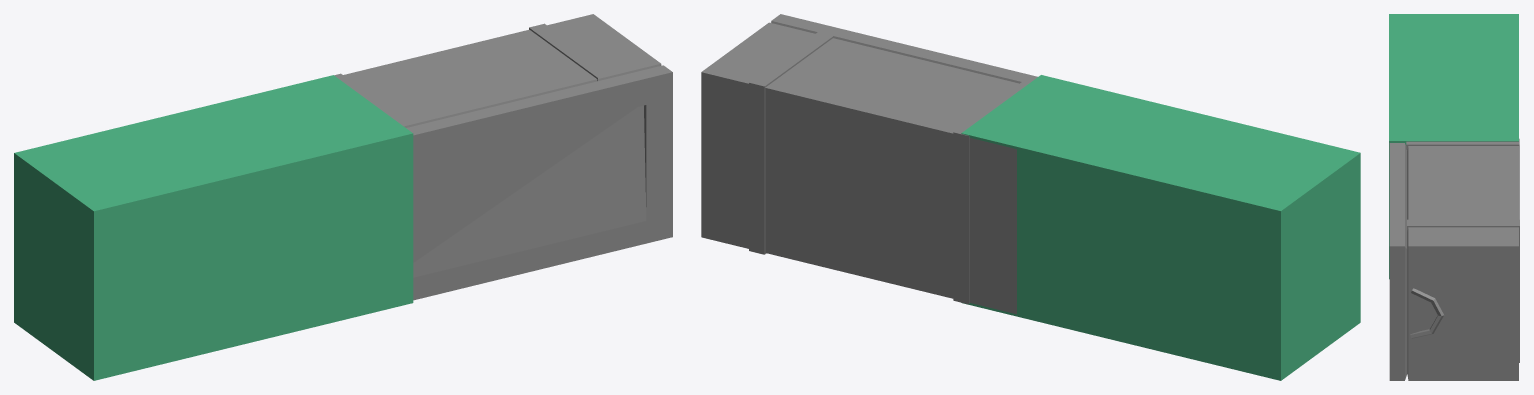
Rendered from trop_Crate_01.glb.
The picture shows the model from 3 angles, left to right: view 1: azimuth 30°, elevation 25°; view 2: azimuth 150°, elevation 25°; view 3: azimuth 270°, elevation 25°; orthographic projection. The views are drawn at different scales.
Parts seen in each view (by area): view 1: geometry_0; view 2: geometry_0; view 3: geometry_0.
Boxes of the visible parts, x1=… form: geometry_0: x1=14, y1=14, x2=672, y2=380; geometry_0: x1=701, y1=14, x2=1360, y2=380; geometry_0: x1=1389, y1=14, x2=1519, y2=380.
Bounding box in the file's own units: 1.13 × 0.3119 × 0.2677.
